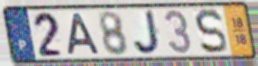2: (32, 10, 67, 60)
3: (162, 8, 193, 56)
8: (98, 10, 129, 58)
A: (66, 11, 103, 56)
J: (131, 9, 164, 57)
S: (193, 7, 230, 56)
